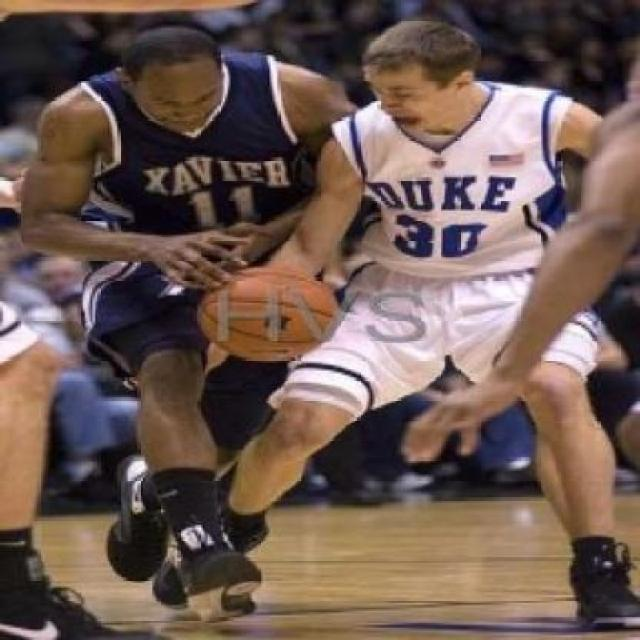basketball: (205, 260, 328, 358)
